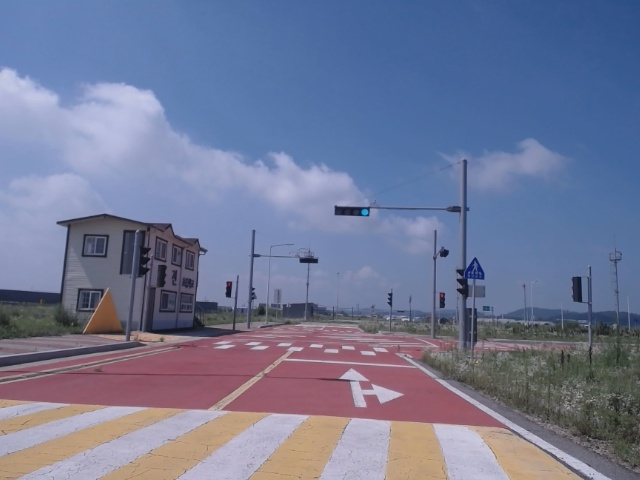straight_green_4: (335, 207, 369, 216)
